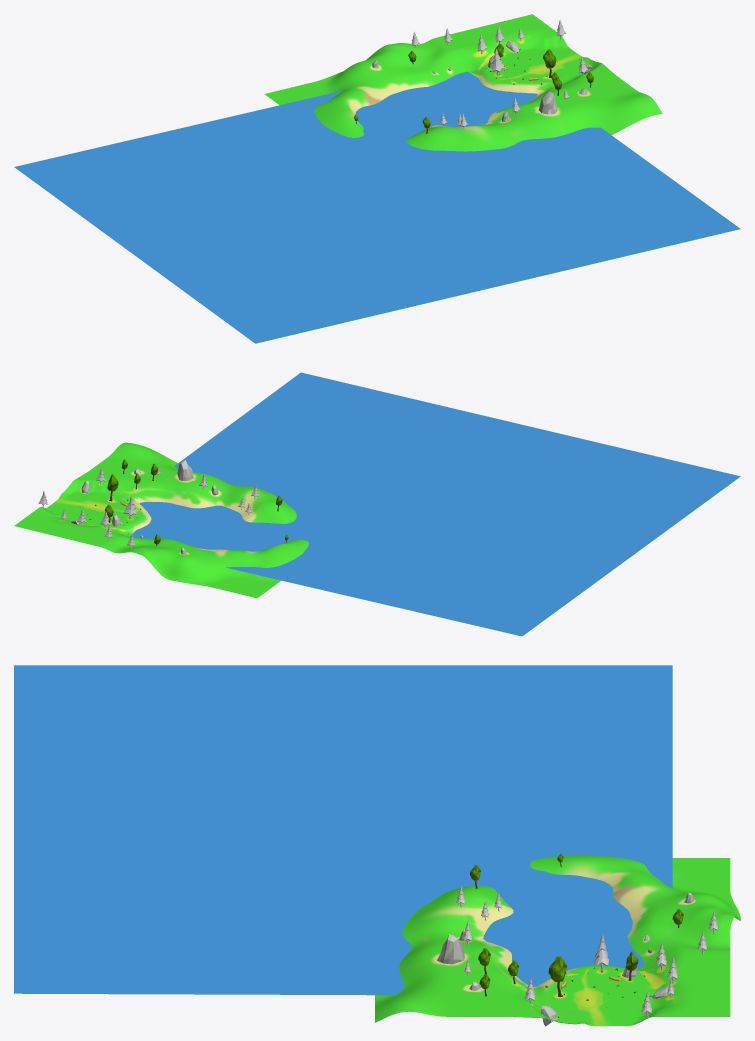
File: Model_env1.fbx
3 views of the same model, one above another, from view 1: azimuth 30°, elevation 25°; view 2: azimuth 150°, elevation 25°; view 3: azimuth 270°, elevation 25° (orthographic). The views are drawn at different scales.
Visible parts, largest first — view 1: model_water, model_floor, model_tree 1, Model_Stone, Model_tree 2; view 2: model_water, model_floor, model_tree 1, Model_Stone, Model_tree 2; view 3: model_water, model_floor, model_tree 1, Model_tree 2, Model_Stone.
Boxes of the visible parts, left/top/right/bottom form: model_water: left=14, top=71, right=740, bottom=343; model_floor: left=264, top=14, right=662, bottom=151; model_tree 1: left=411, top=20, right=588, bottom=128; Model_Stone: left=372, top=41, right=591, bottom=121; Model_tree 2: left=354, top=43, right=593, bottom=133; model_water: left=127, top=372, right=740, bottom=636; model_floor: left=14, top=442, right=308, bottom=598; model_tree 1: left=38, top=466, right=258, bottom=548; Model_Stone: left=71, top=460, right=218, bottom=554; Model_tree 2: left=105, top=459, right=288, bottom=545; model_water: left=14, top=665, right=672, bottom=995; model_floor: left=375, top=855, right=740, bottom=1026; model_tree 1: left=456, top=886, right=718, bottom=1018; Model_tree 2: left=470, top=853, right=683, bottom=996; Model_Stone: left=437, top=892, right=694, bottom=1026.
Size of the model in its own units: 18582 by 1518 by 15824.
